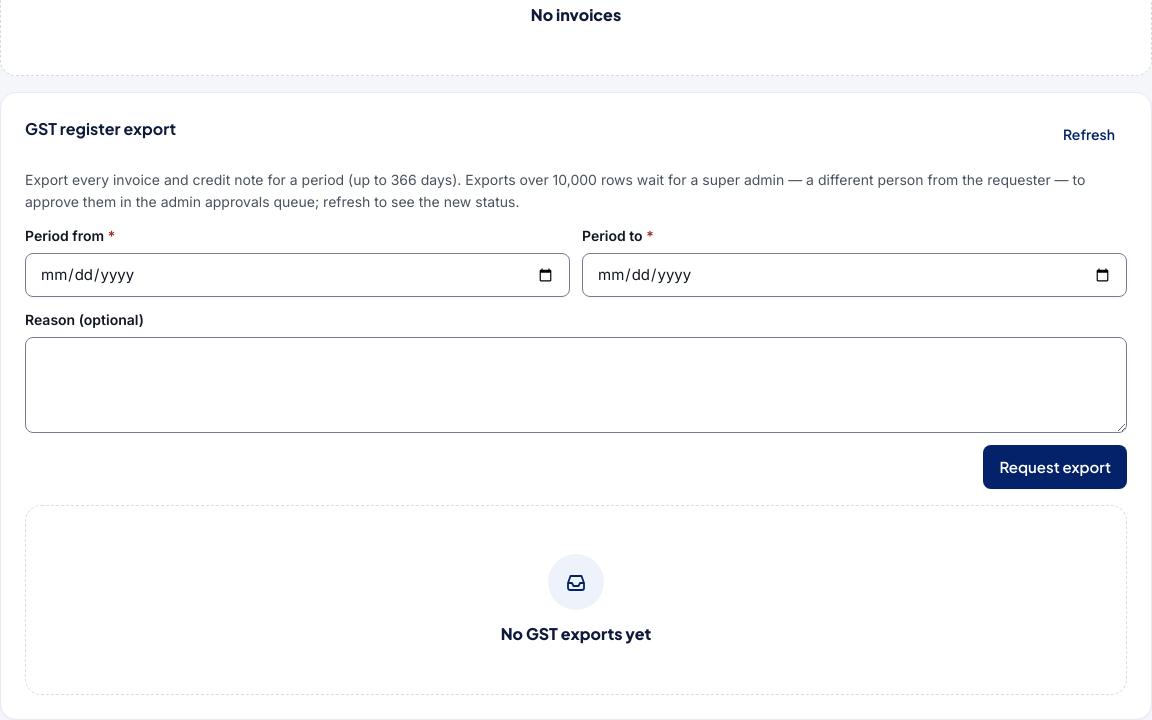
Test: Invoices (FIN-007) › validates the GST export period before requesting
(page scrolled)
Expected: the text "over 10,000 rows wait for a super admin" is shown, [25,169,1127,213]
Click the button "Request export".
click(1055, 467)  # box [984,445,1127,489]
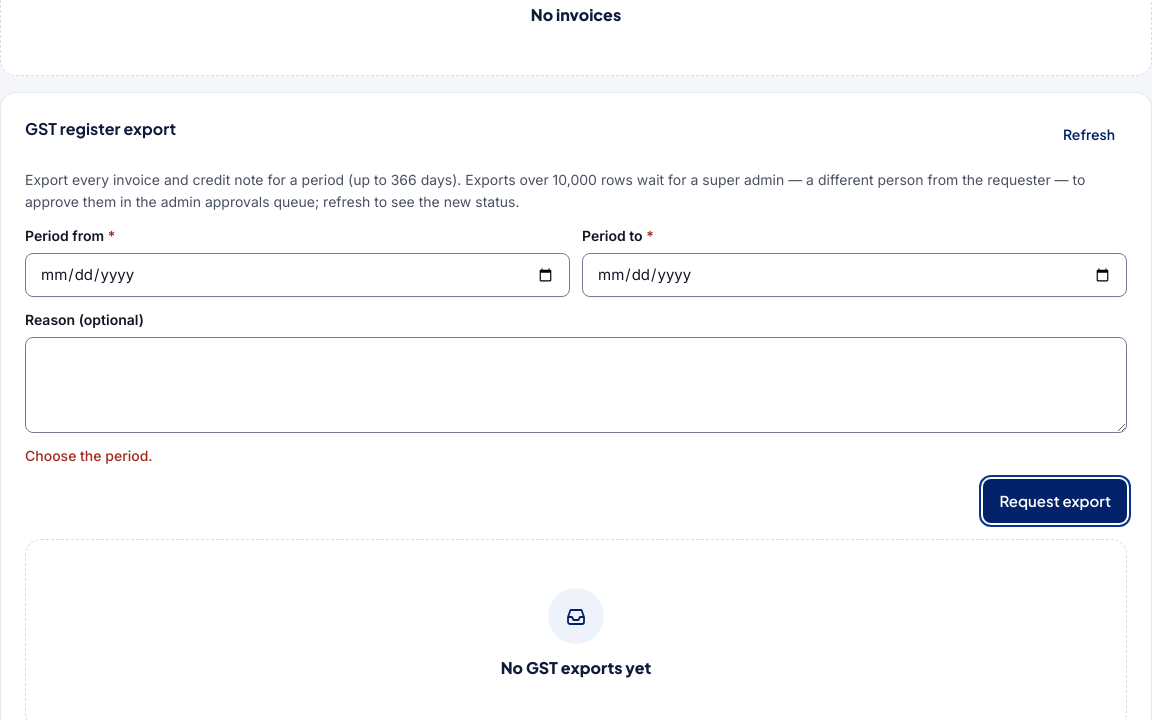
Expected: the message reads "Choose the period.", [25,447,152,464]
Type "2025-01-01" into the date field labelled "Period from *".
click(298, 275); type("2025-01-01")  # box [25,253,570,297]
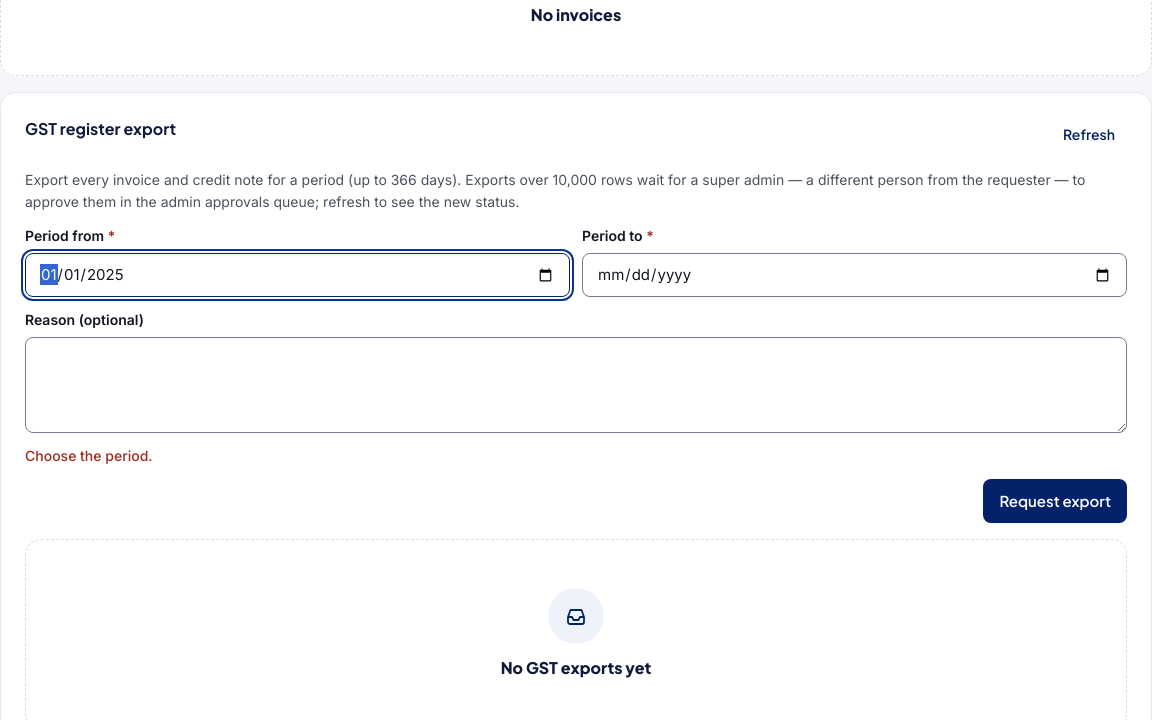
Type "2026-01-02" into the date field labelled "Period to *".
click(854, 275); type("2026-01-02")  # box [582,253,1127,297]
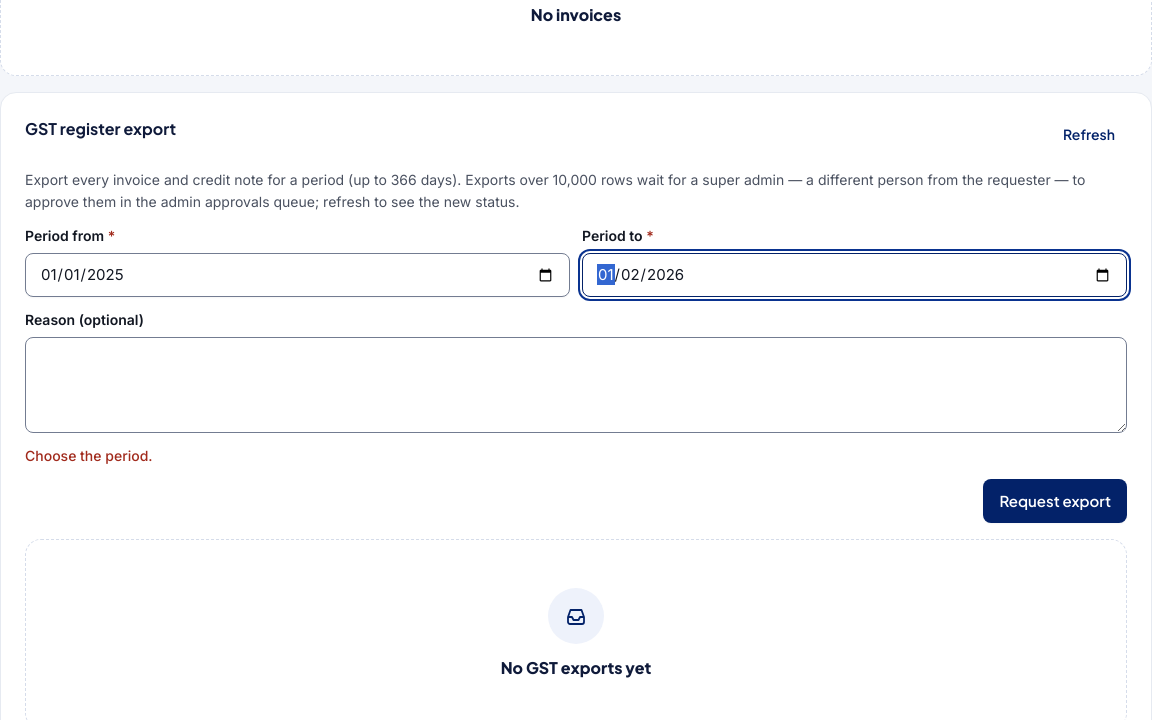
Click the button "Request export".
click(1055, 501)  # box [984,479,1127,523]
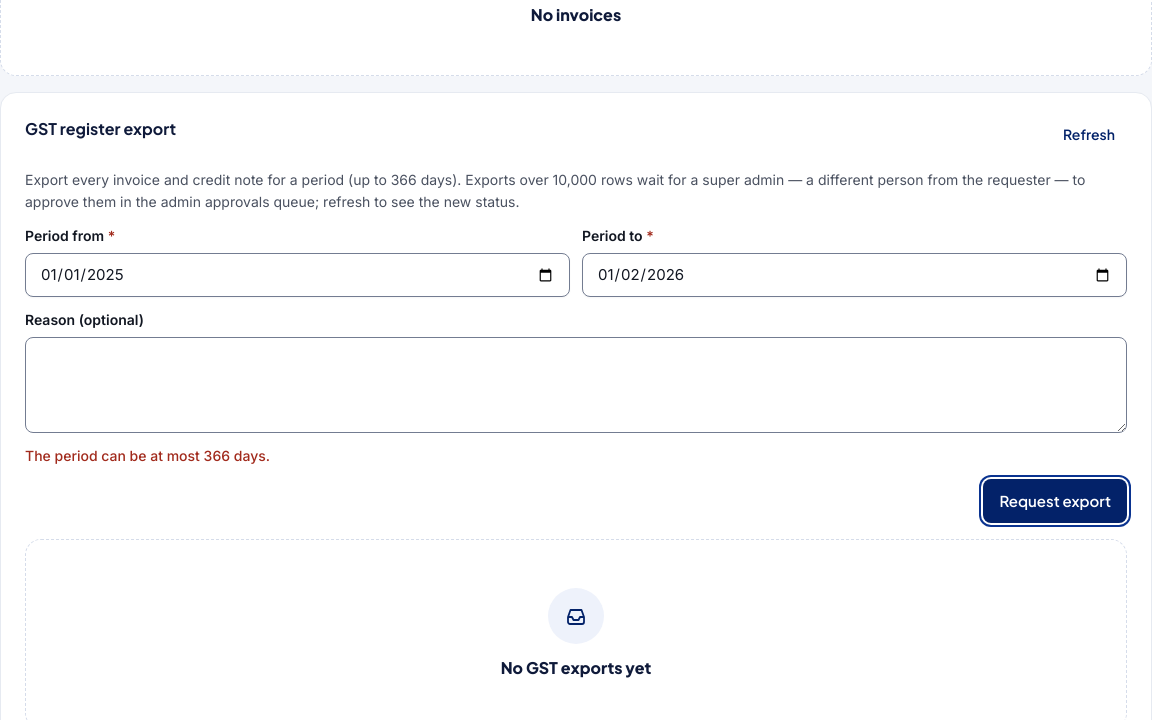
Expected: the message shows "at most 366 days", [25,447,270,464]
